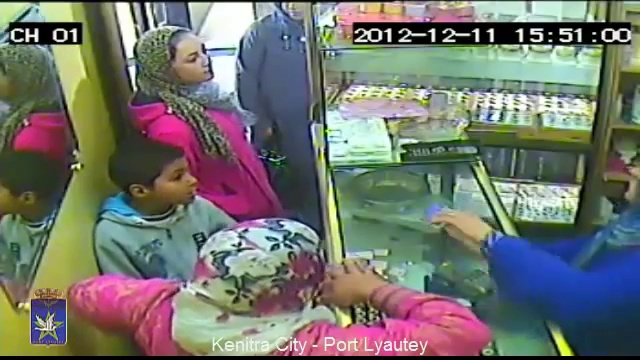face: (165, 36, 213, 84), (153, 157, 198, 208)
